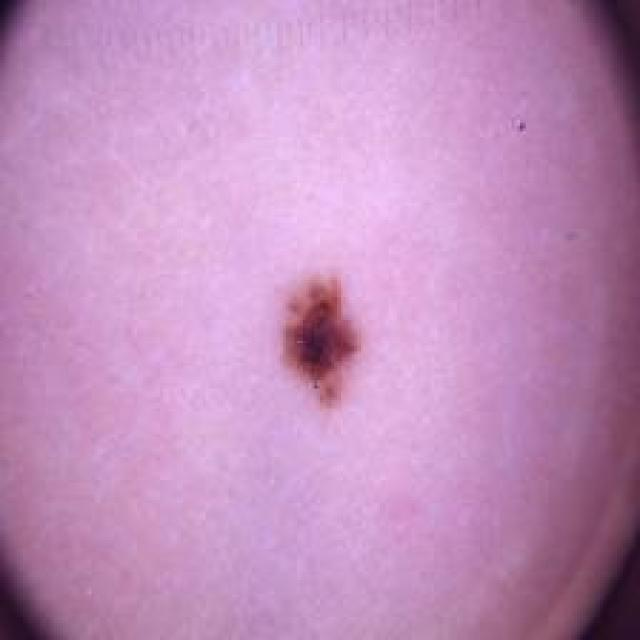Cancer: (248, 262, 375, 437)
